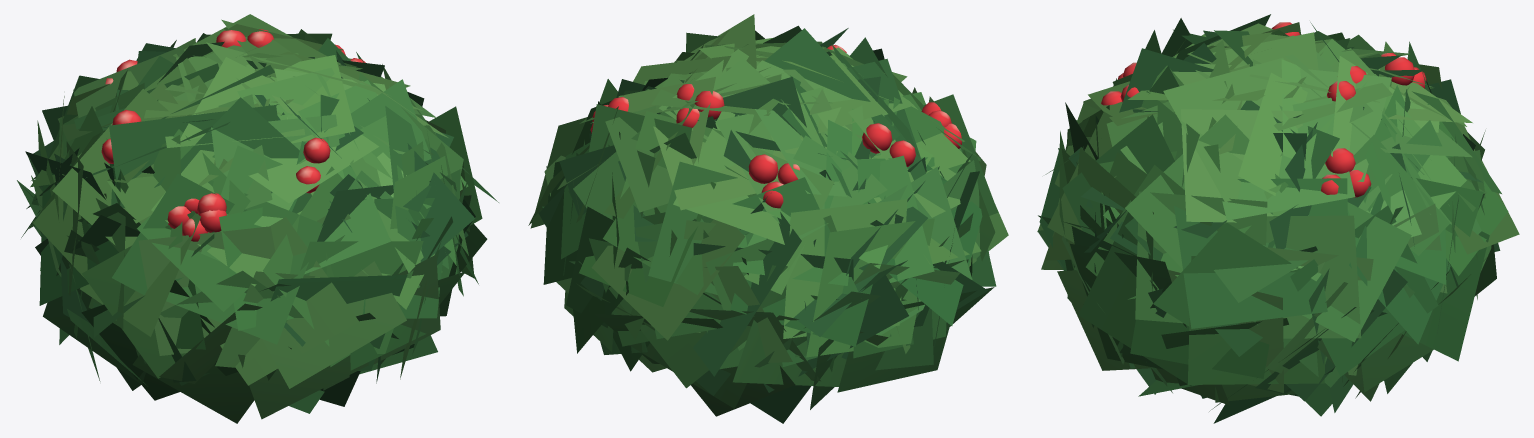
Rendered from tree-village-bush-box-v0.glb.
The picture shows the model from 3 angles, left to right: view 1: azimuth 30°, elevation 25°; view 2: azimuth 150°, elevation 25°; view 3: azimuth 270°, elevation 25°; orthographic projection. The views are drawn at different scales.
Visible parts, largest first — view 1: cards_round, berries; view 2: cards_round, berries; view 3: cards_round, berries.
Part boxes in pixels (<box>): cards_round: <box>17,14,498,423</box>; berries: <box>101,29,365,241</box>; cards_round: <box>528,14,1008,423</box>; berries: <box>590,44,961,208</box>; cards_round: <box>1037,14,1519,423</box>; berries: <box>1101,22,1426,197</box>.
Bounding box in the file's own units: 1.53 × 1.15 × 1.48.
